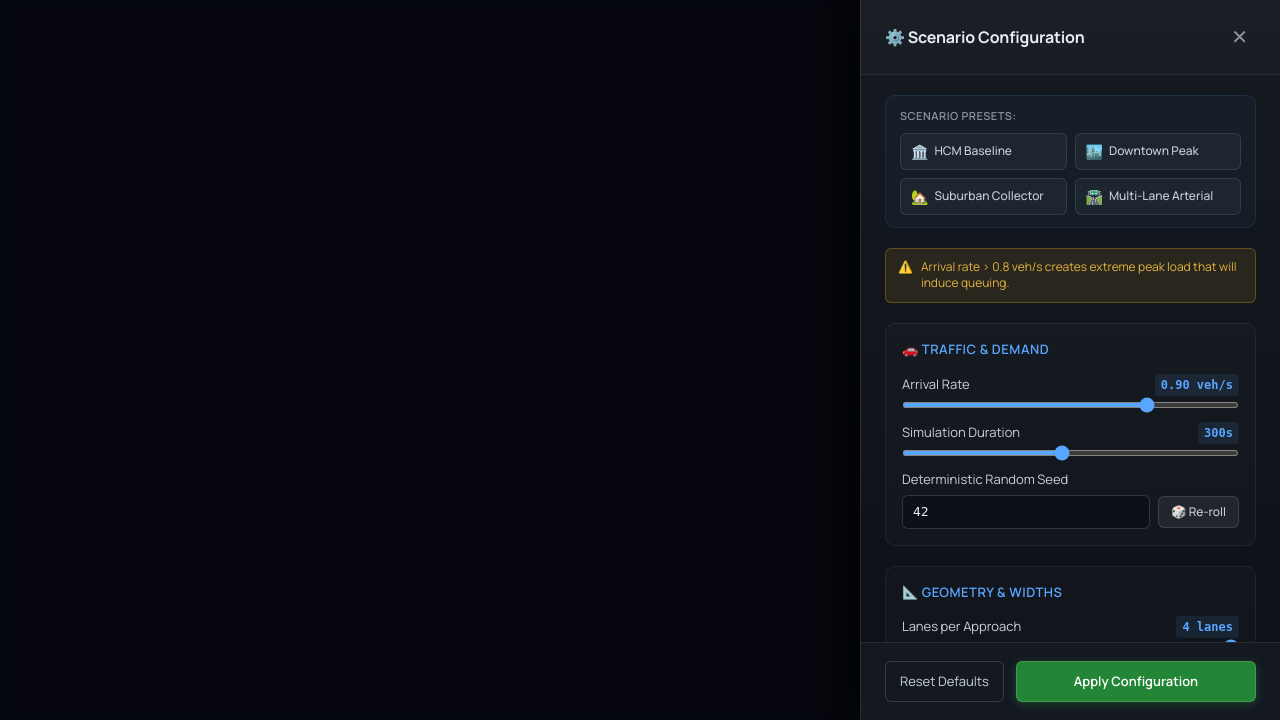
Test: ConfigurationSidebar › resets form when Reset Defaults button is clicked
The image size is (1280, 720).
Click the button "Reset Defaults": (944, 681) [885,660,1004,702]
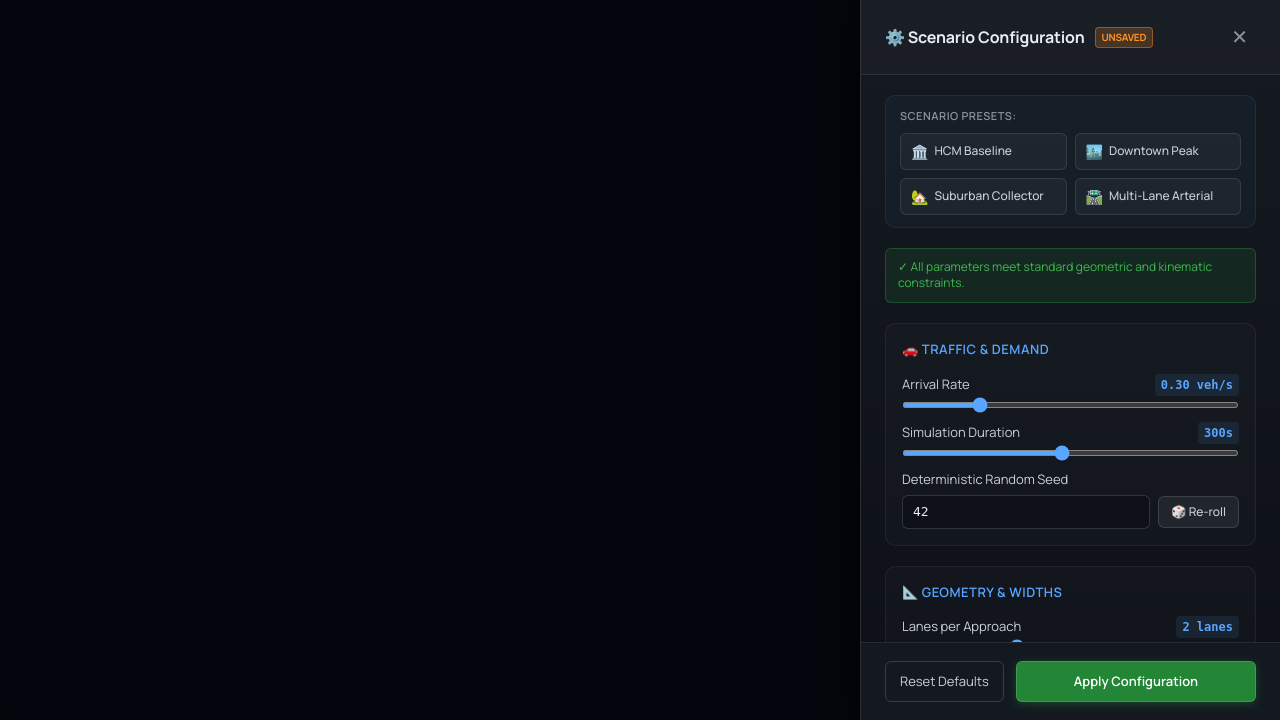
Expected: the text "2 lanes" is shown, [1176,616,1239,638]
